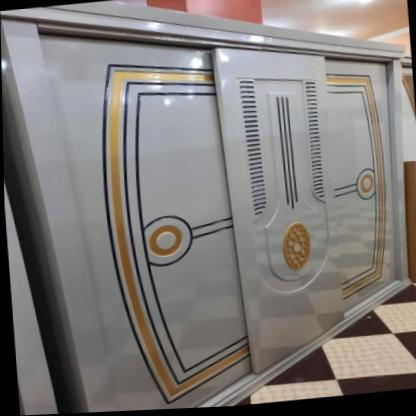Ceramic floor: (248, 287, 416, 406)
Closet: (0, 8, 409, 414)
